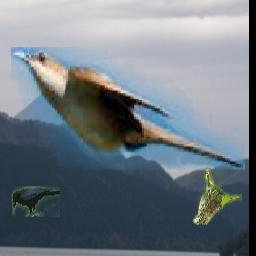Crow: (12, 188, 60, 218)
Cuckoo: (11, 48, 245, 171)
Sparrow: (194, 168, 243, 226)
